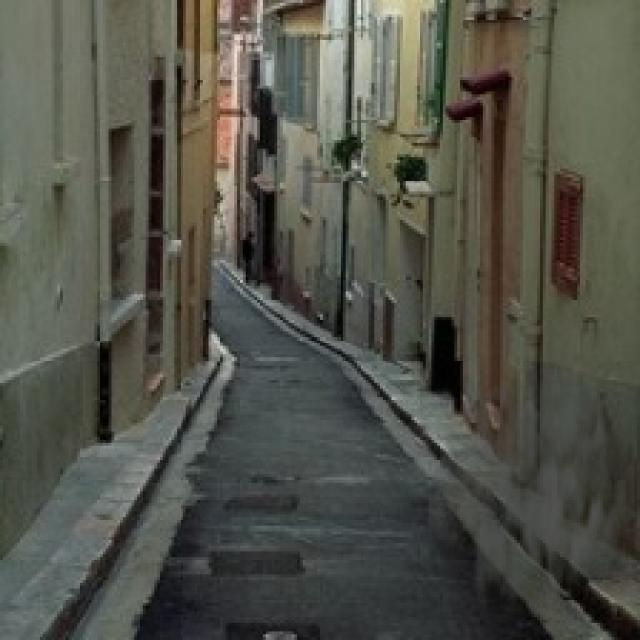Smoke: (428, 348, 638, 623)
